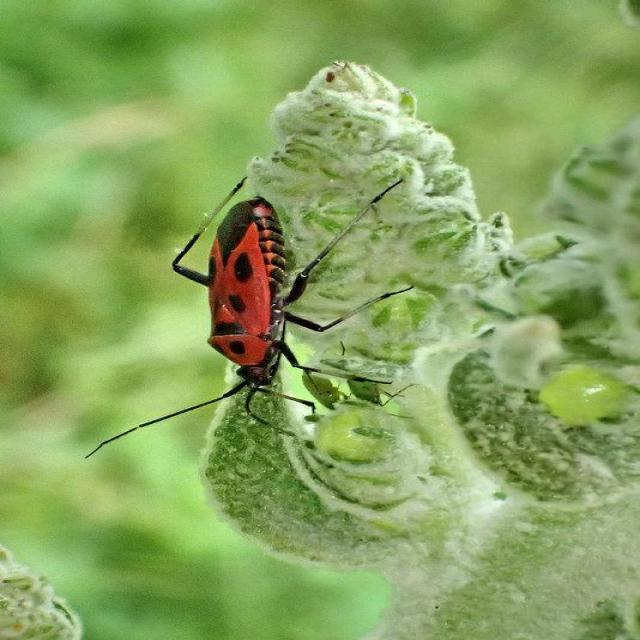Miridae-Adult-: (87, 158, 412, 450)
